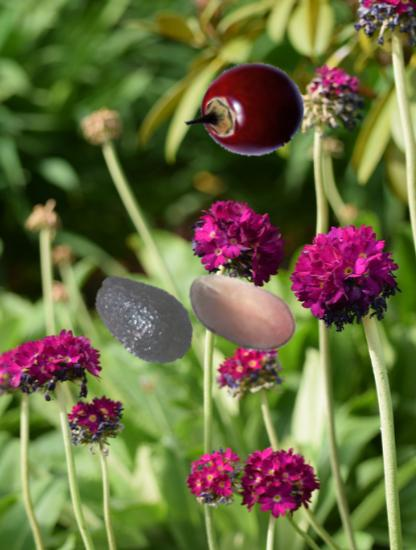Avocado: (90, 262, 200, 372)
Hazelnut: (180, 251, 303, 374)
Tamarillo: (194, 58, 305, 169)
